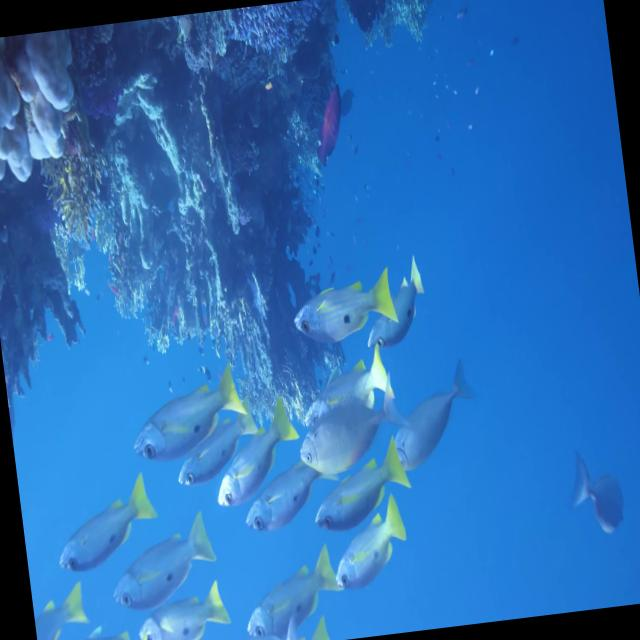fish: (201, 370, 312, 534), (105, 488, 228, 625), (381, 353, 488, 503), (304, 433, 424, 559), (126, 364, 256, 476), (293, 340, 410, 460), (354, 237, 445, 381), (47, 472, 168, 580), (240, 443, 340, 559), (322, 489, 419, 608), (289, 264, 401, 366), (169, 404, 267, 519), (236, 554, 343, 640), (561, 440, 637, 541), (135, 573, 237, 640), (29, 571, 96, 640), (53, 631, 159, 640)
